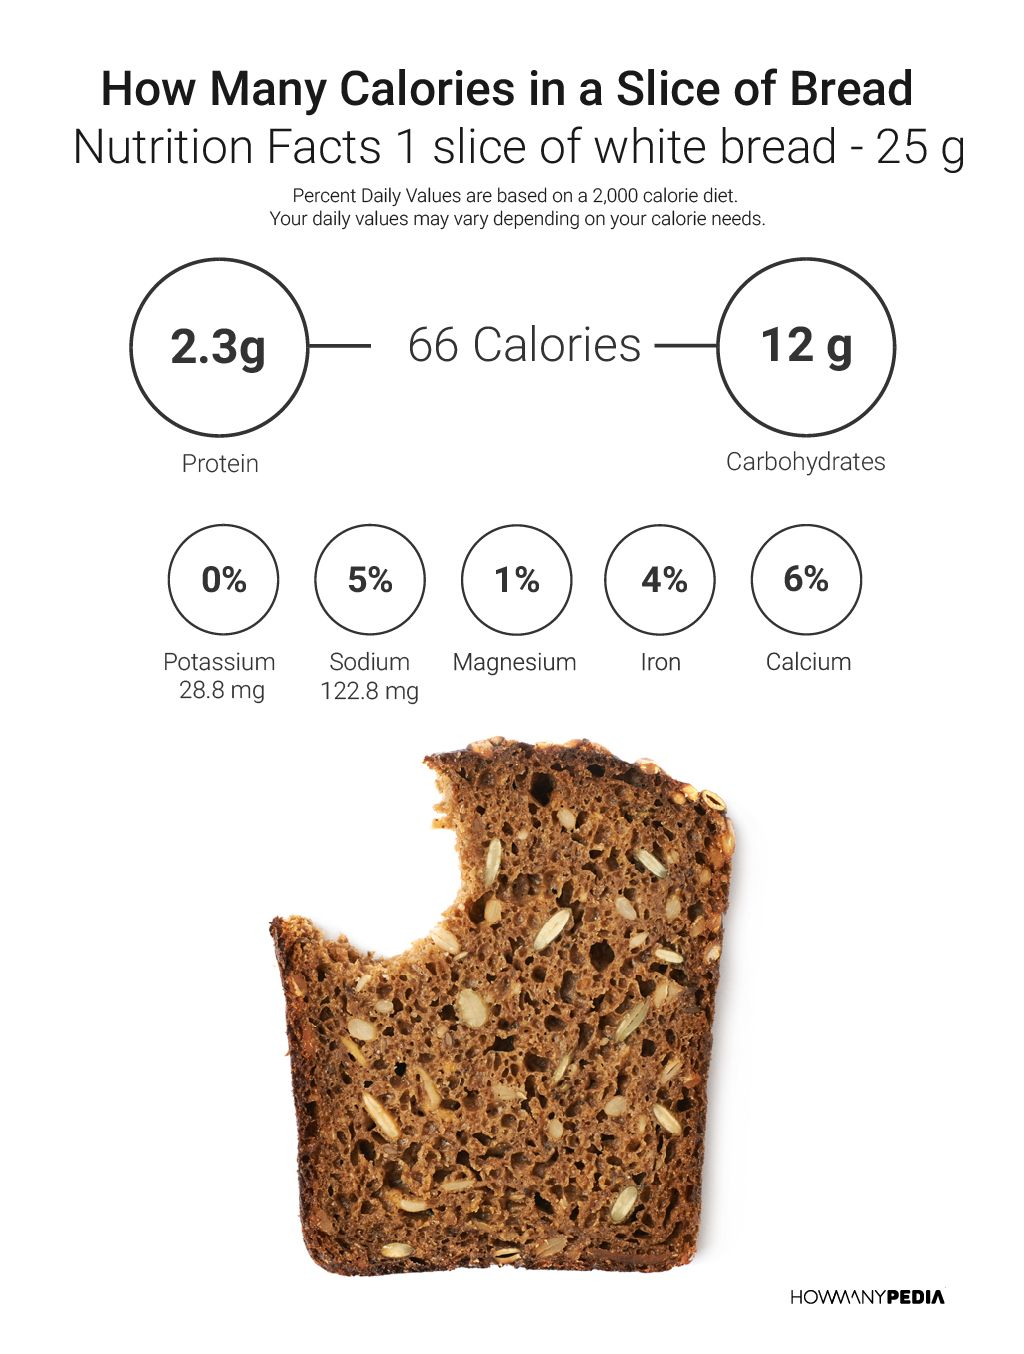boiled potatoes: (265, 714, 753, 1300)
